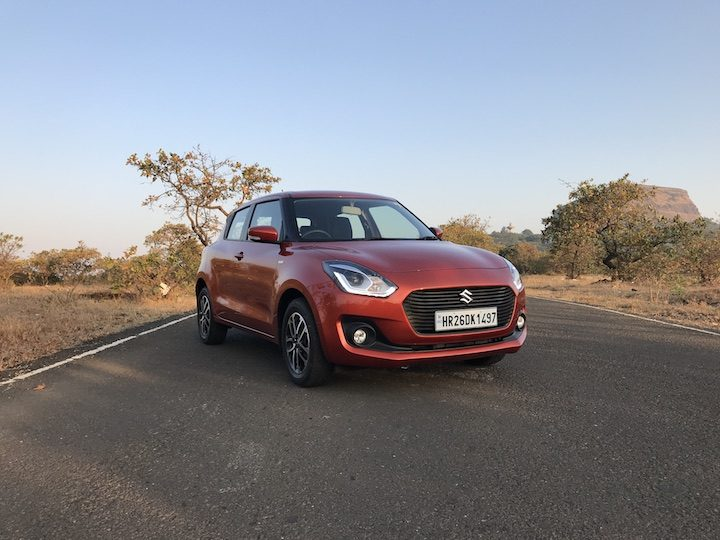Car: (191, 186, 536, 391)
